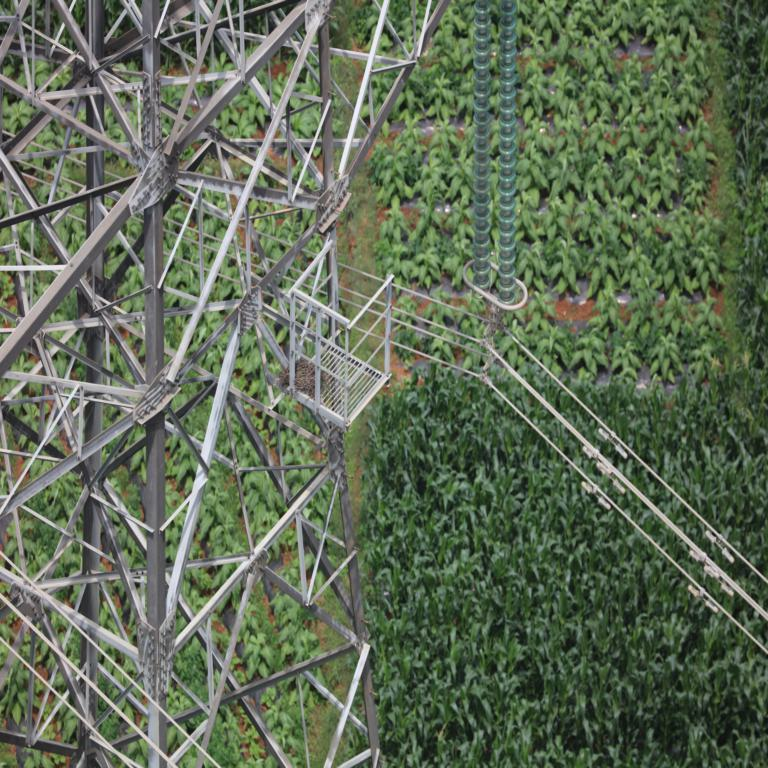nest: (280, 361, 321, 395)
